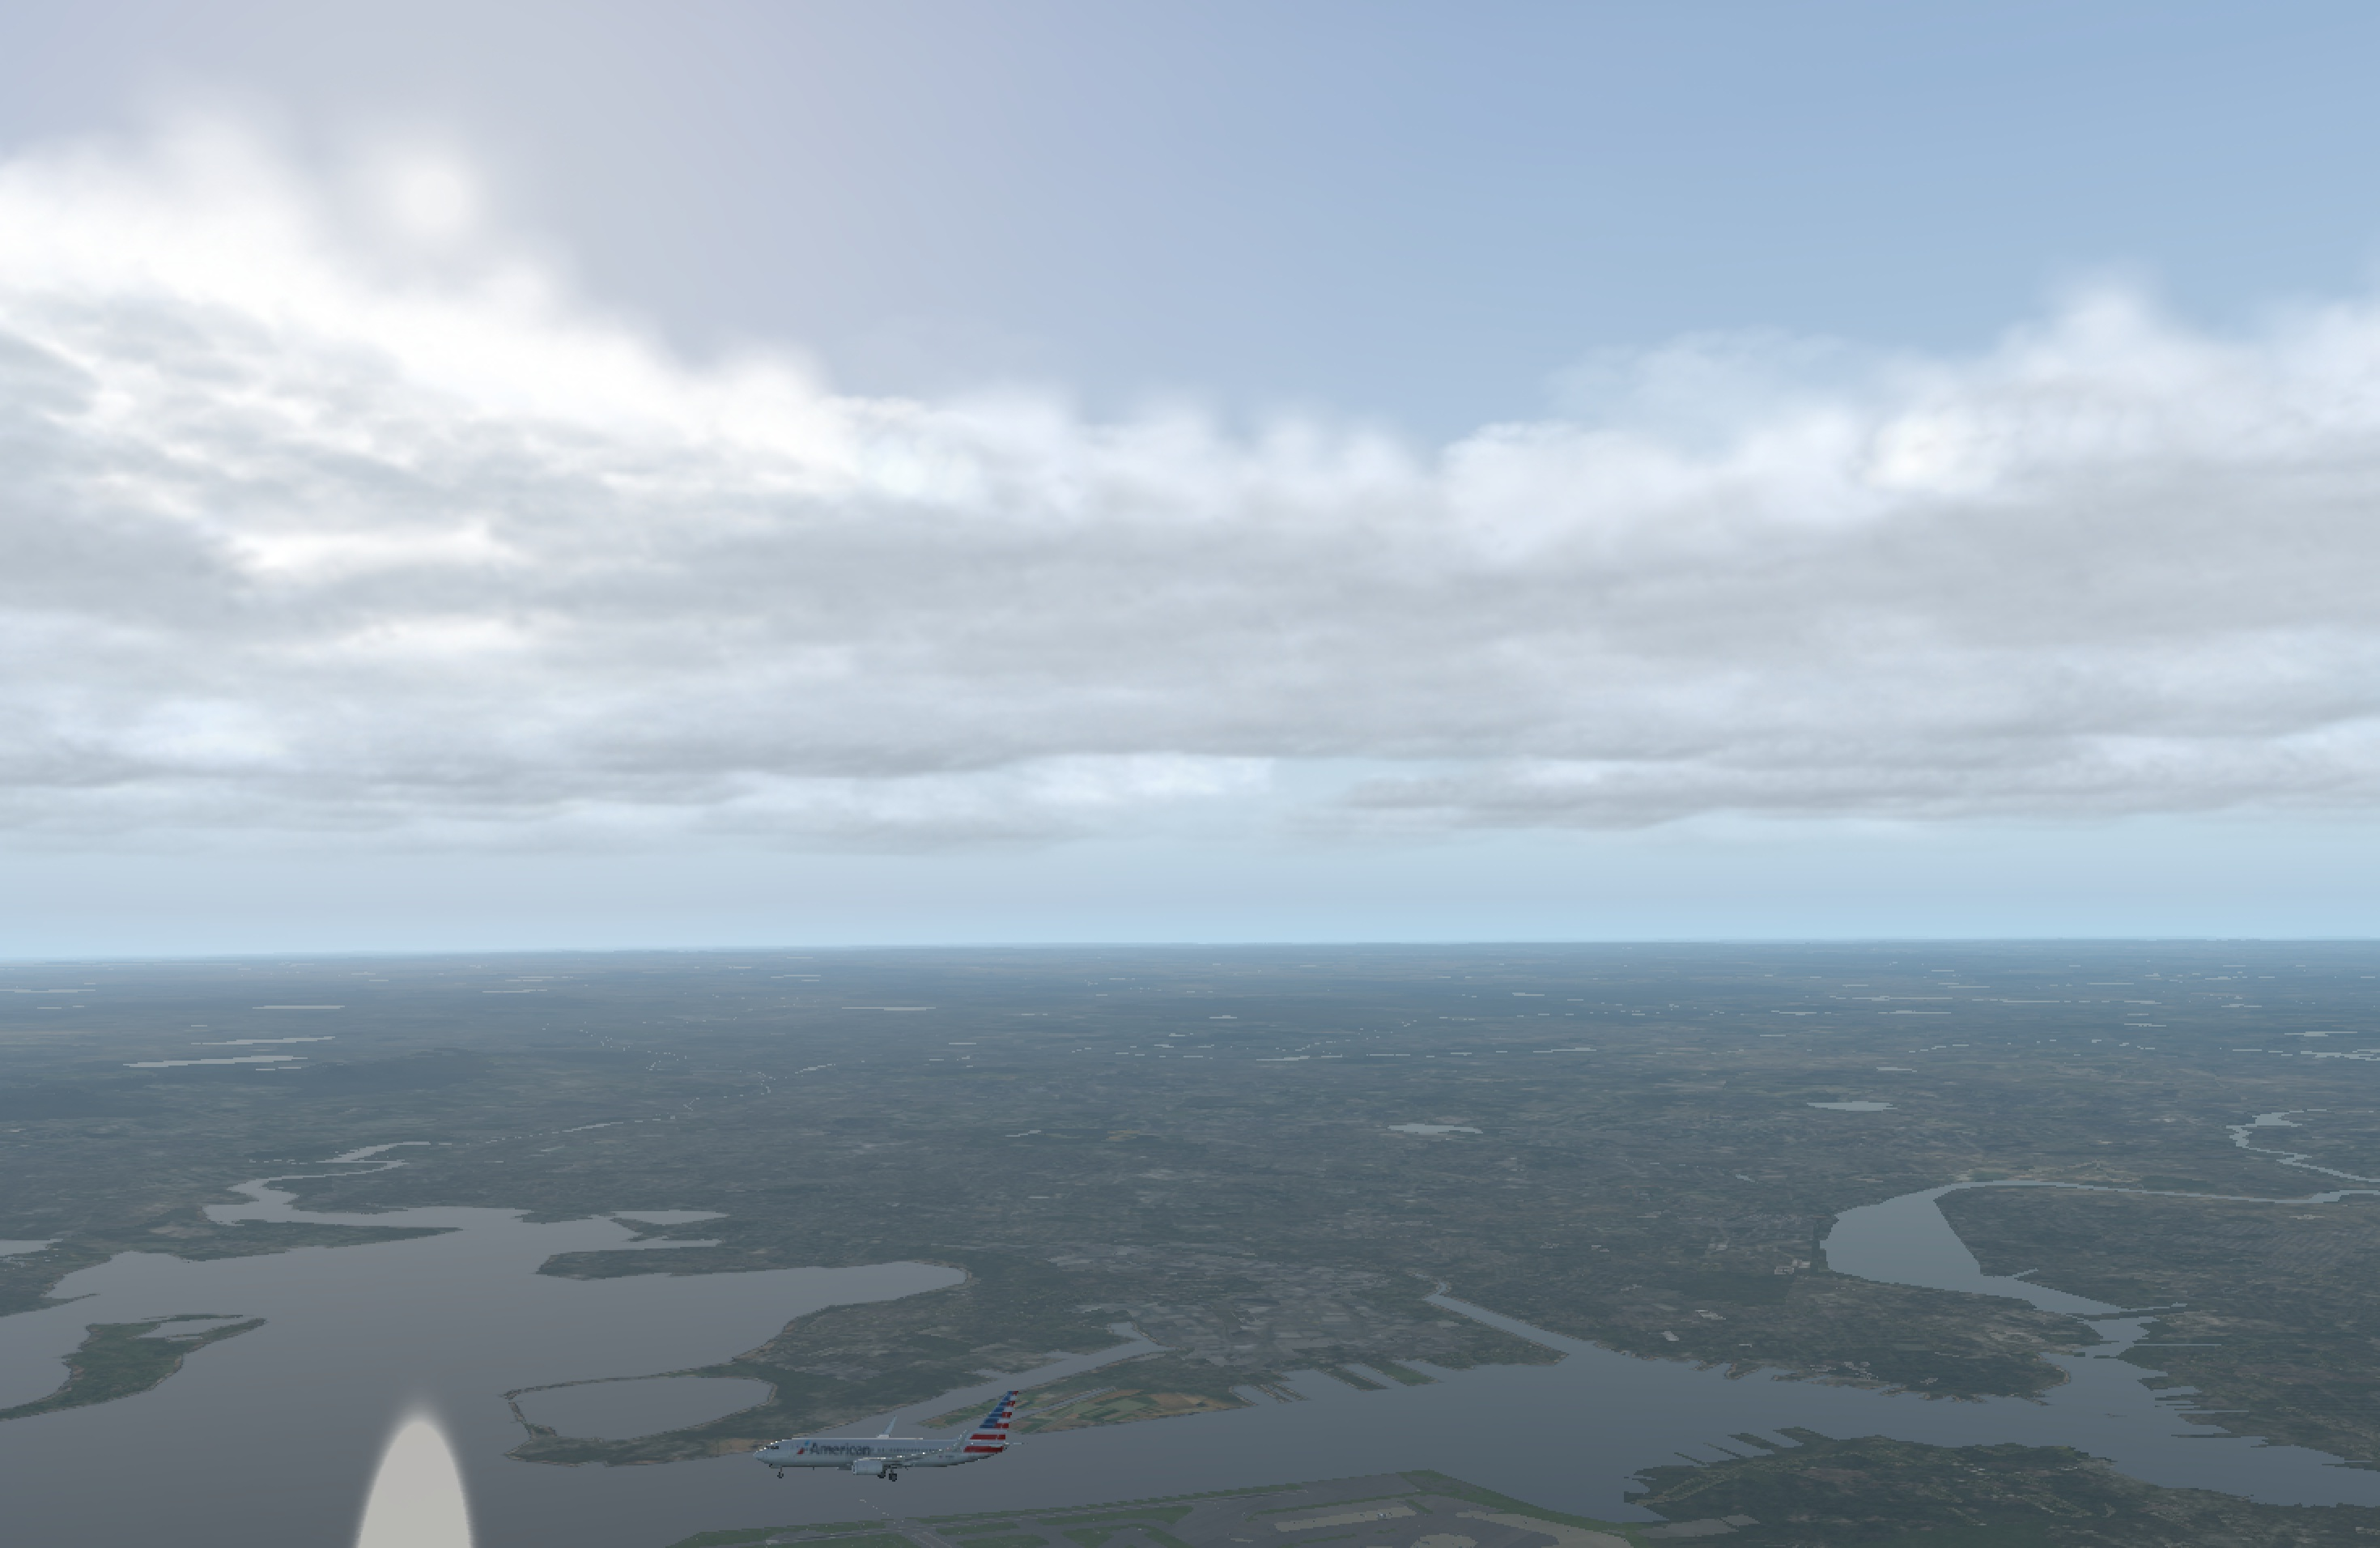aircraft: (751, 1410, 1006, 1505)
